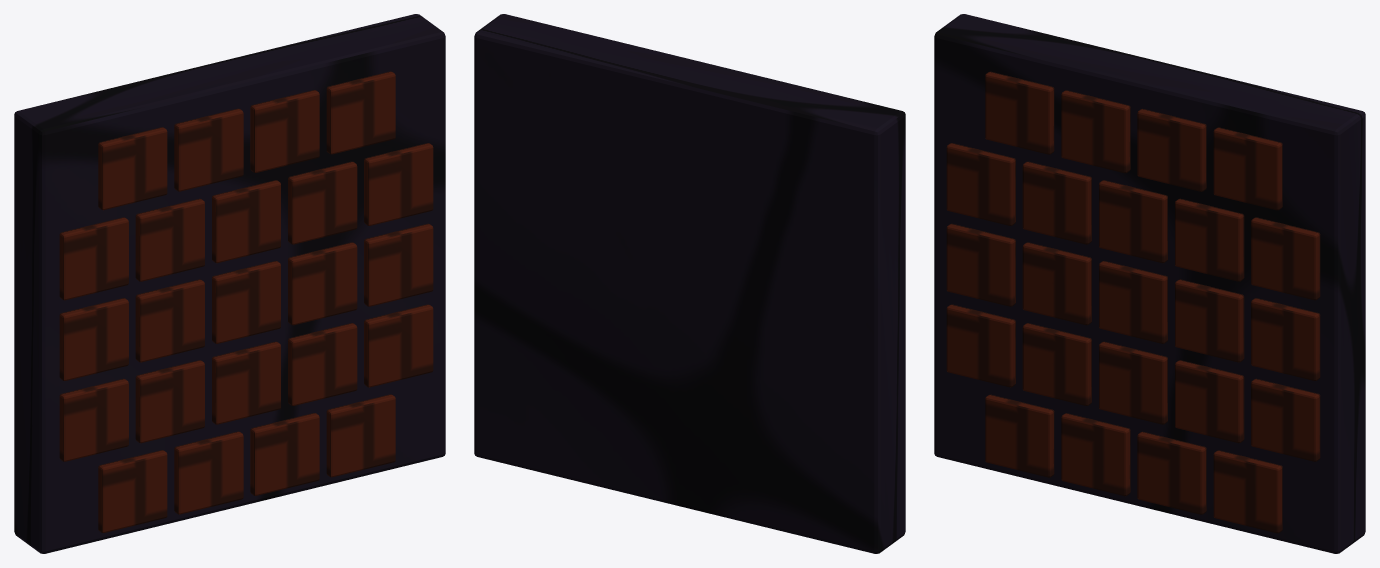
File: SM_FC_Wall_400x400.fbx
The picture shows the model from 3 angles, left to right: view 1: azimuth 30°, elevation 25°; view 2: azimuth 150°, elevation 25°; view 3: azimuth 330°, elevation 25°; orthographic projection.
Parts seen in each view (by area): view 1: SM_FC_Wall_400x400; view 2: SM_FC_Wall_400x400; view 3: SM_FC_Wall_400x400.
Part boxes in pixels (x1,y1,x2,y2): SM_FC_Wall_400x400: (14, 14, 445, 553); SM_FC_Wall_400x400: (474, 14, 905, 553); SM_FC_Wall_400x400: (934, 14, 1365, 553).
Size of what is drawn, in the model's own units: 4 by 4 by 0.575.
